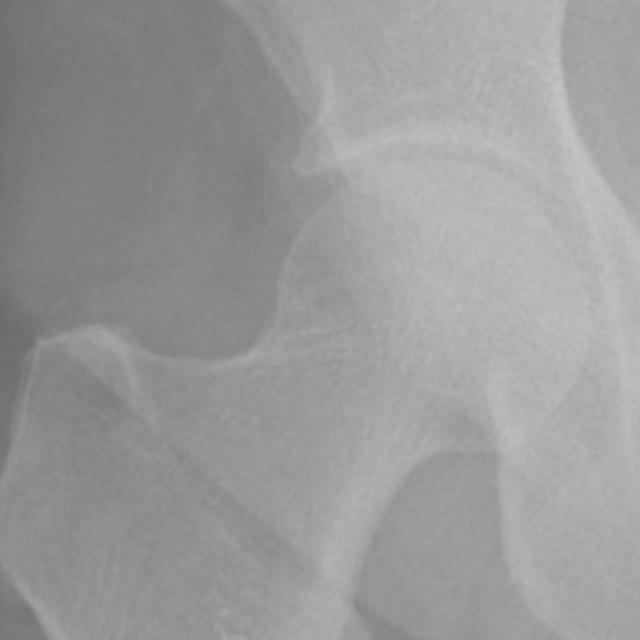Fitted_femural_head: (321, 158, 432, 321)
